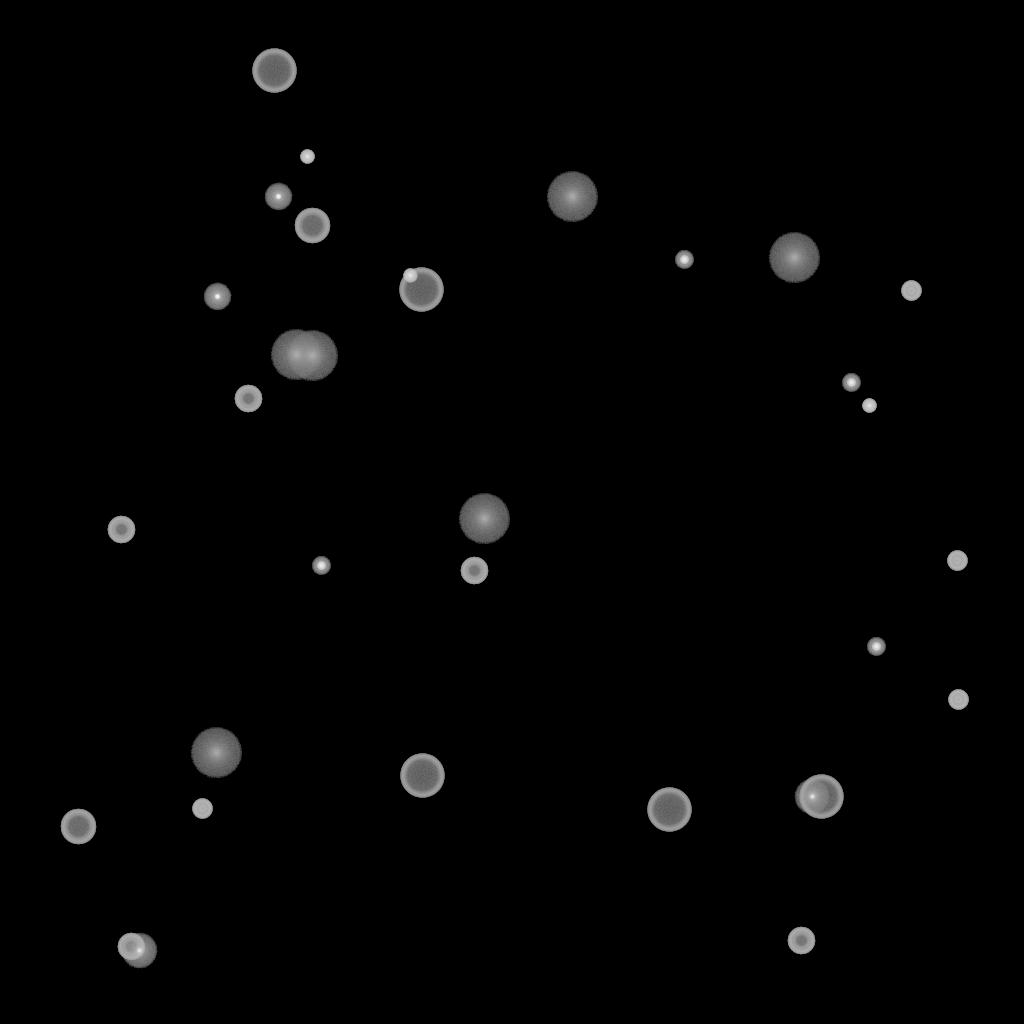depth:-10: (203, 283, 231, 311), (264, 183, 292, 211)
depth:-20: (312, 557, 330, 575), (675, 251, 693, 269), (867, 638, 885, 656), (842, 374, 860, 392)
depth:-30: (862, 399, 876, 413), (300, 150, 314, 164), (403, 269, 417, 283)
depth:-40: (948, 690, 968, 710), (947, 551, 967, 571), (192, 799, 212, 819), (901, 281, 921, 301)
depth:-50: (117, 933, 145, 961), (787, 927, 815, 955), (460, 557, 488, 585), (234, 385, 262, 413), (107, 516, 135, 544)
depth:-60: (294, 208, 330, 244), (60, 809, 96, 845)
depth:-70: (647, 788, 691, 832), (399, 268, 443, 312), (400, 754, 444, 798), (252, 49, 296, 93), (799, 775, 843, 819)
depth:0: (794, 779, 830, 815), (121, 933, 157, 969)
depth:20: (768, 233, 820, 283), (458, 494, 510, 544), (270, 330, 322, 380), (190, 728, 242, 778), (546, 172, 598, 222), (286, 331, 338, 381)
